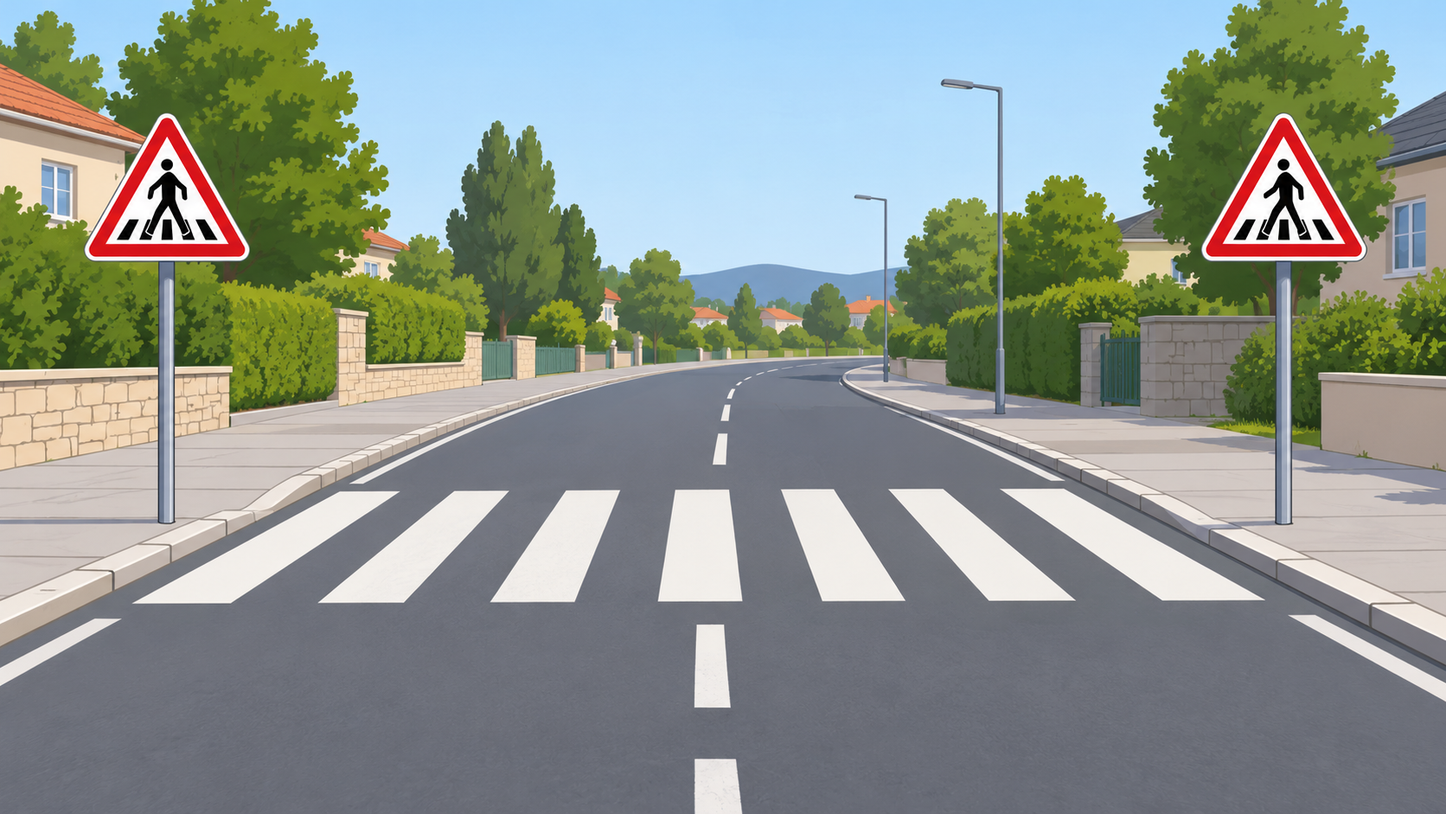crossing_warning_sign: (82, 113, 249, 260), (1202, 113, 1366, 260)
zebra_crossing: (0, 490, 1446, 608)
